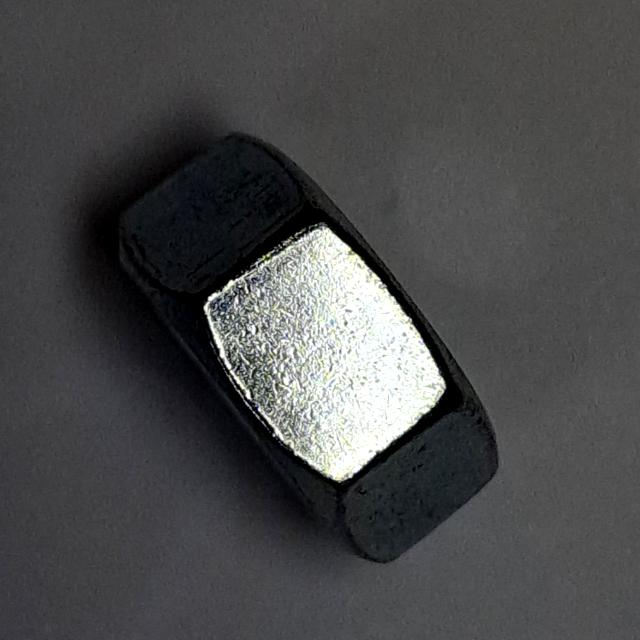Side_Excellent: (107, 102, 511, 575)
